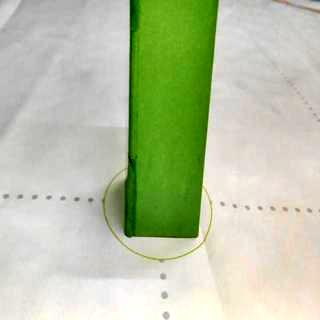greenbox: (128, 0, 204, 238)
